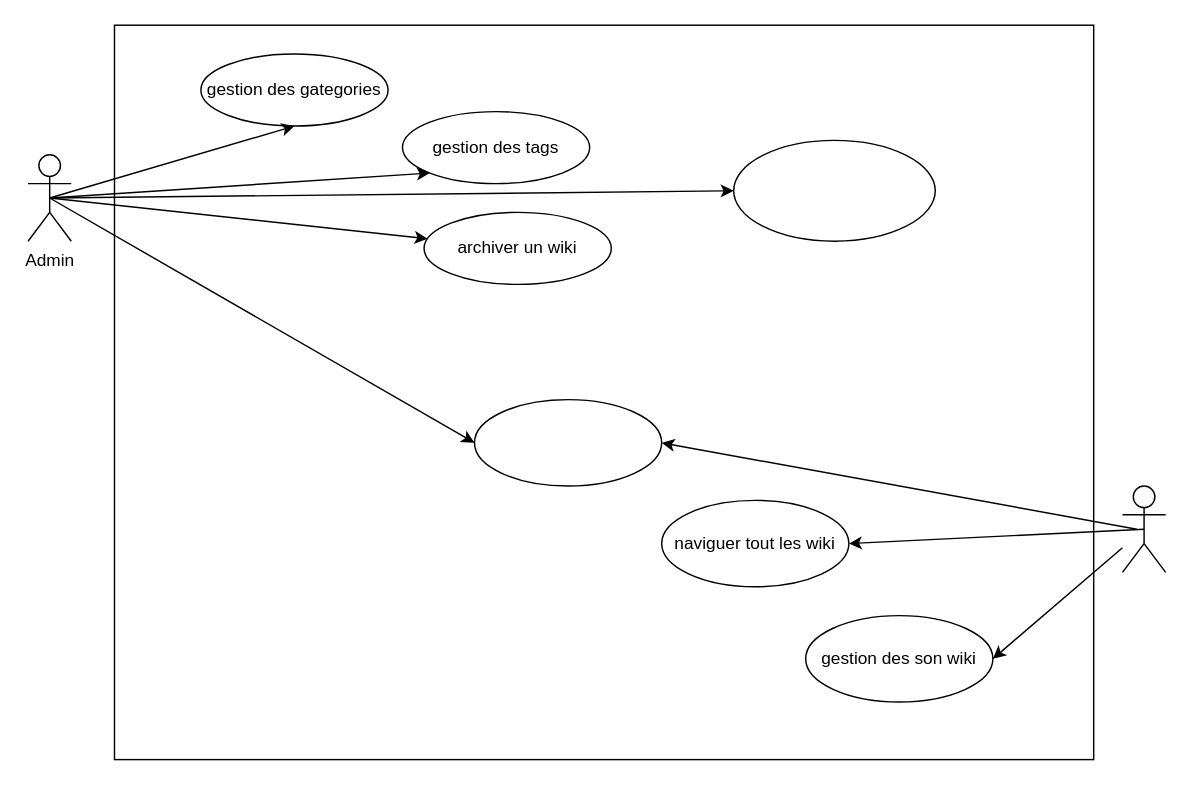
The diagram is 1192 pixels wide and 785 high, and some of its shapes have lost their labels. The centre of each missing label's shape, as x and y in pixels:
authentication: the point at 567,442
author: the point at 1143,528
supprimer un utilisateur: the point at 833,190
